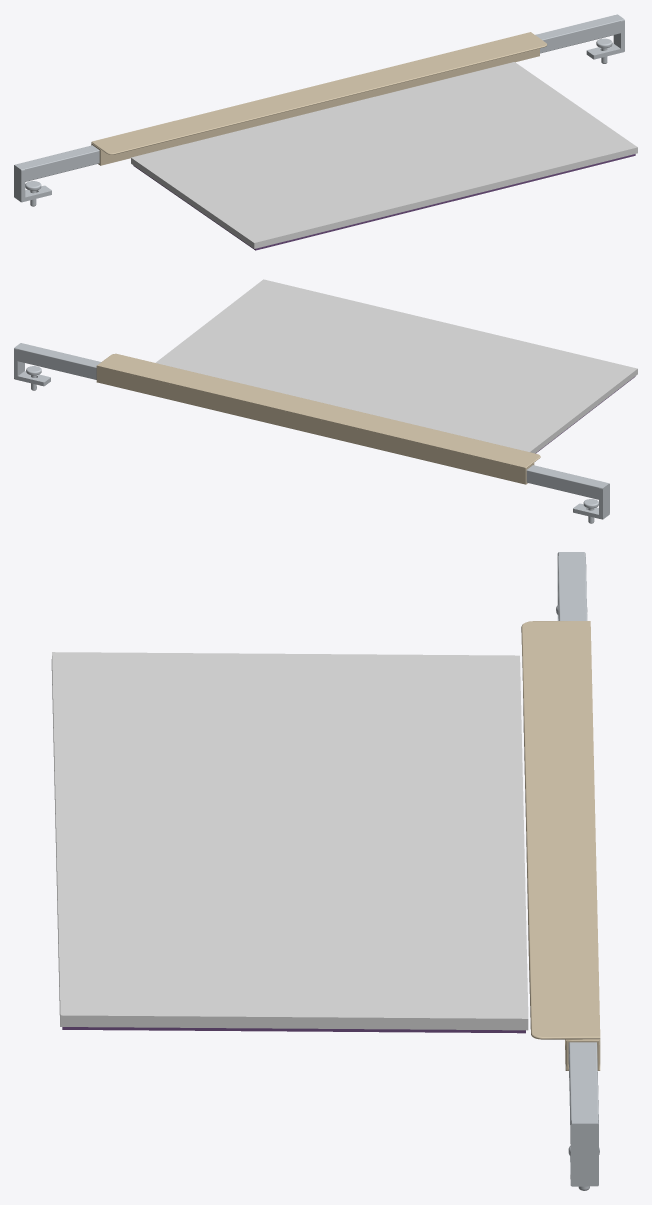
Rendered from ergoflex-art-easel.glb.
The picture shows the model from 3 angles, top to bottom: view 1: azimuth 30°, elevation 25°; view 2: azimuth 150°, elevation 25°; view 3: azimuth 270°, elevation 25°; orthographic projection. The views are drawn at different scales.
Visible parts, largest first — view 1: Mesh_5, Mesh_1, Mesh_2, Mesh_0; view 2: Mesh_5, Mesh_1, Mesh_2; view 3: Mesh_5, Mesh_1, Mesh_2, Mesh_0.
Part boxes in pixels (<box>): Mesh_5: <box>131,62,637,248</box>; Mesh_1: <box>91,32,547,165</box>; Mesh_2: <box>14,14,624,206</box>; Mesh_0: <box>133,154,635,250</box>; Mesh_5: <box>155,279,637,453</box>; Mesh_1: <box>96,353,540,484</box>; Mesh_2: <box>14,343,609,523</box>; Mesh_5: <box>51,652,528,1030</box>; Mesh_1: <box>521,621,600,1070</box>; Mesh_2: <box>556,552,599,1190</box>; Mesh_0: <box>62,1027,525,1033</box>.
Bounding box in the file's own units: 1.48 × 0.1057 × 0.6024.
